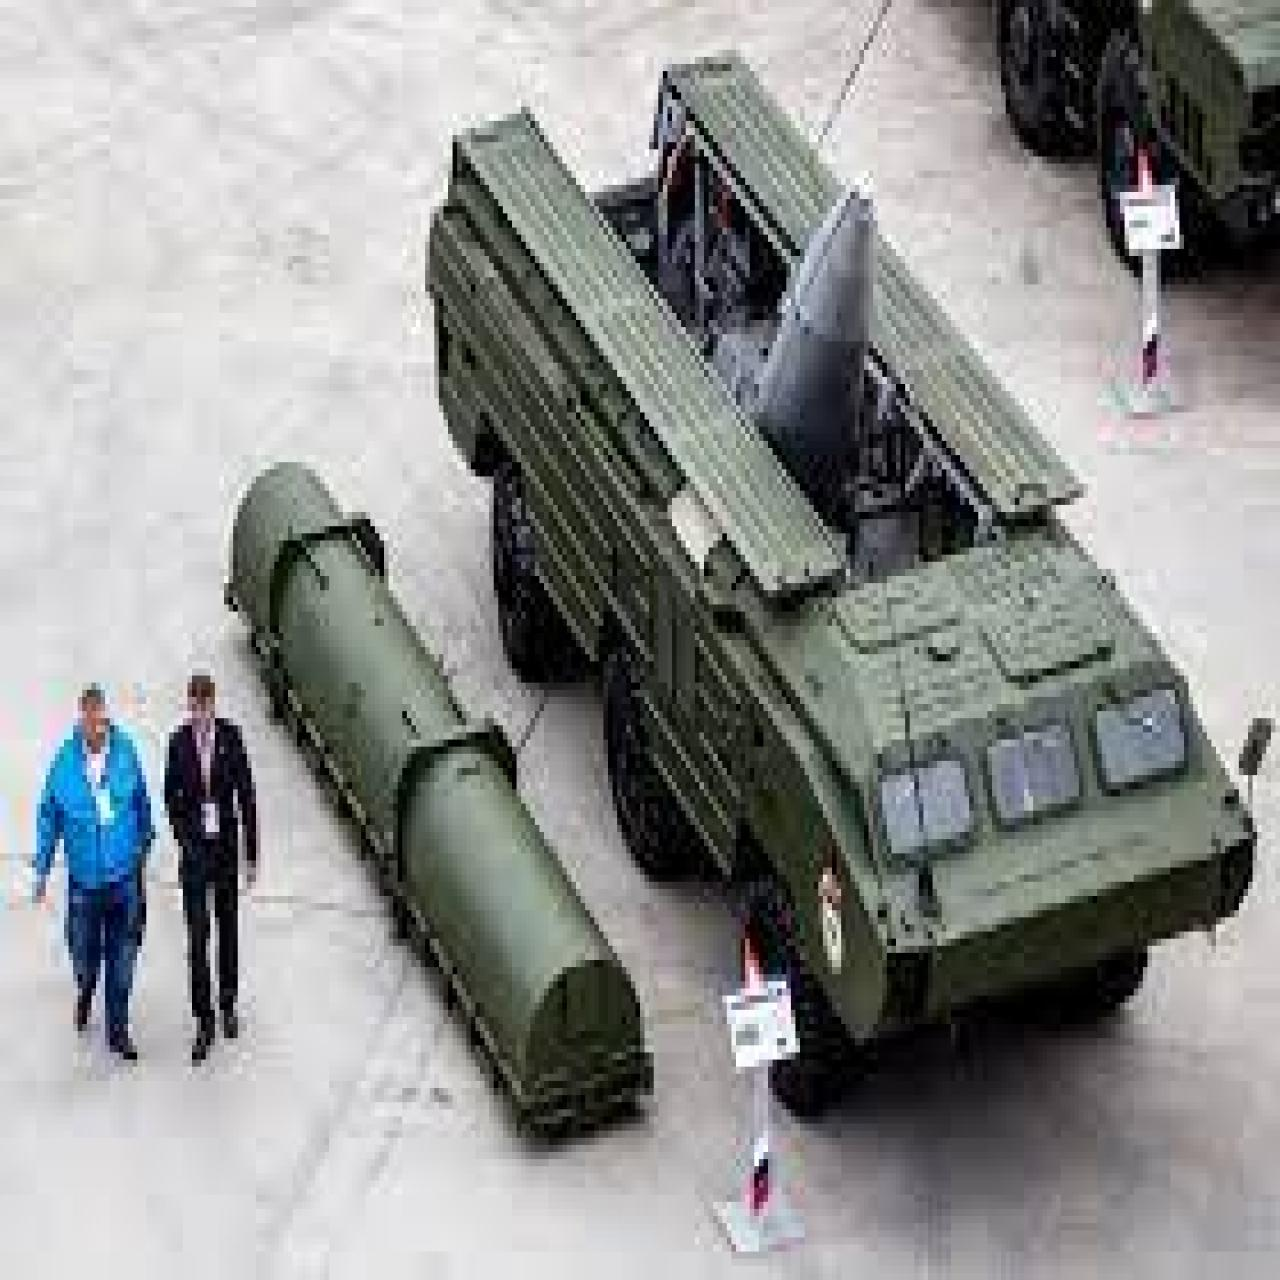MIL_Veh: (419, 51, 1247, 1097)
